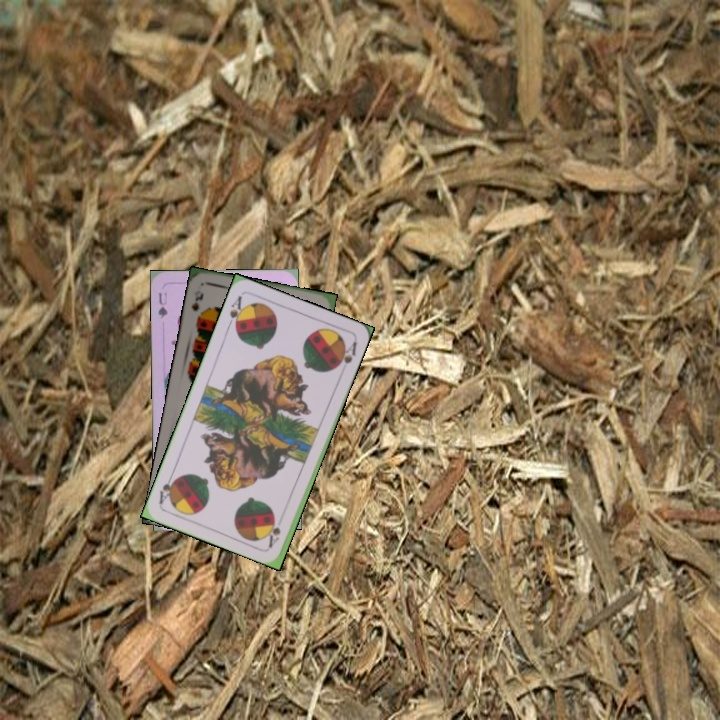GU: (154, 289, 170, 321)
S9: (187, 289, 206, 324)
SA: (223, 291, 247, 333), (264, 522, 283, 550)
